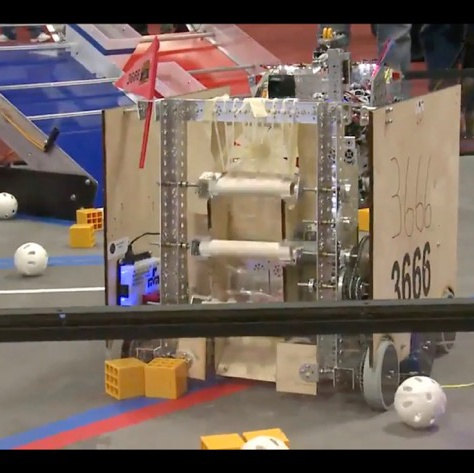robot: (92, 26, 465, 411)
